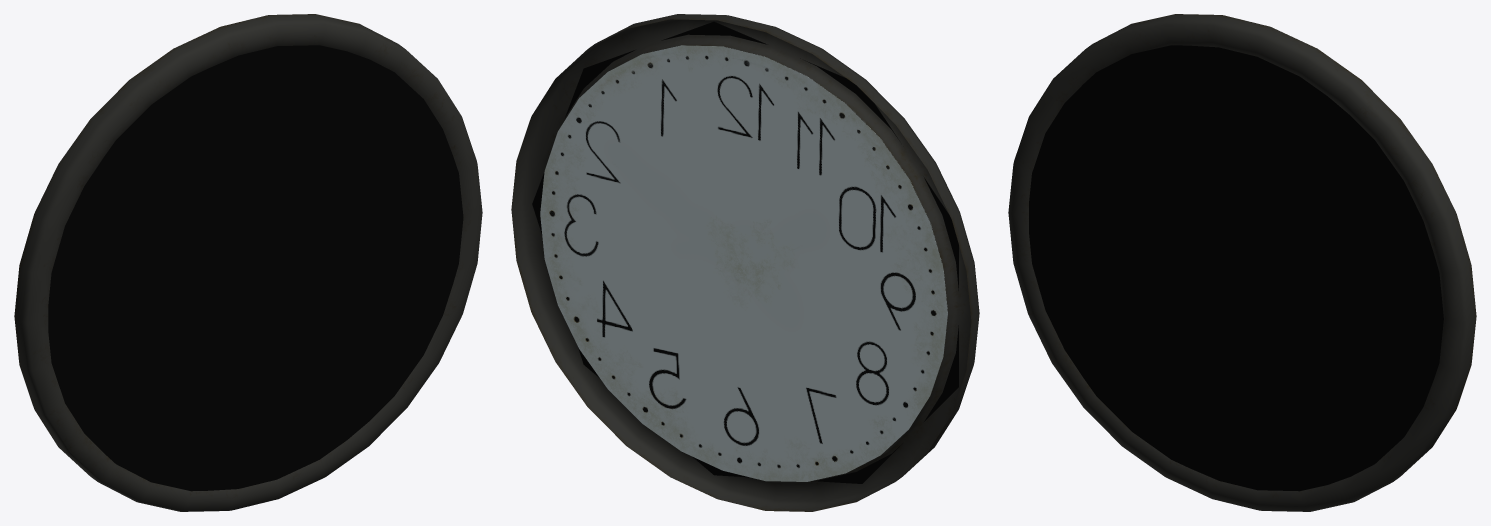
Rendered from SM_Clock01.FBX.
The picture shows the model from 3 angles, left to right: view 1: azimuth 30°, elevation 25°; view 2: azimuth 150°, elevation 25°; view 3: azimuth 330°, elevation 25°; orthographic projection.
Parts seen in each view (by area): view 1: SM_Clock01_LOD0; view 2: SM_Clock01_LOD0; view 3: SM_Clock01_LOD0.
Part boxes in pixels (box(x1,y1,x2,y2)): SM_Clock01_LOD0: box(14, 14, 482, 511); SM_Clock01_LOD0: box(511, 14, 979, 511); SM_Clock01_LOD0: box(1008, 14, 1476, 511).
Bounding box in the file's own units: 38.93 × 1.72 × 38.72.
